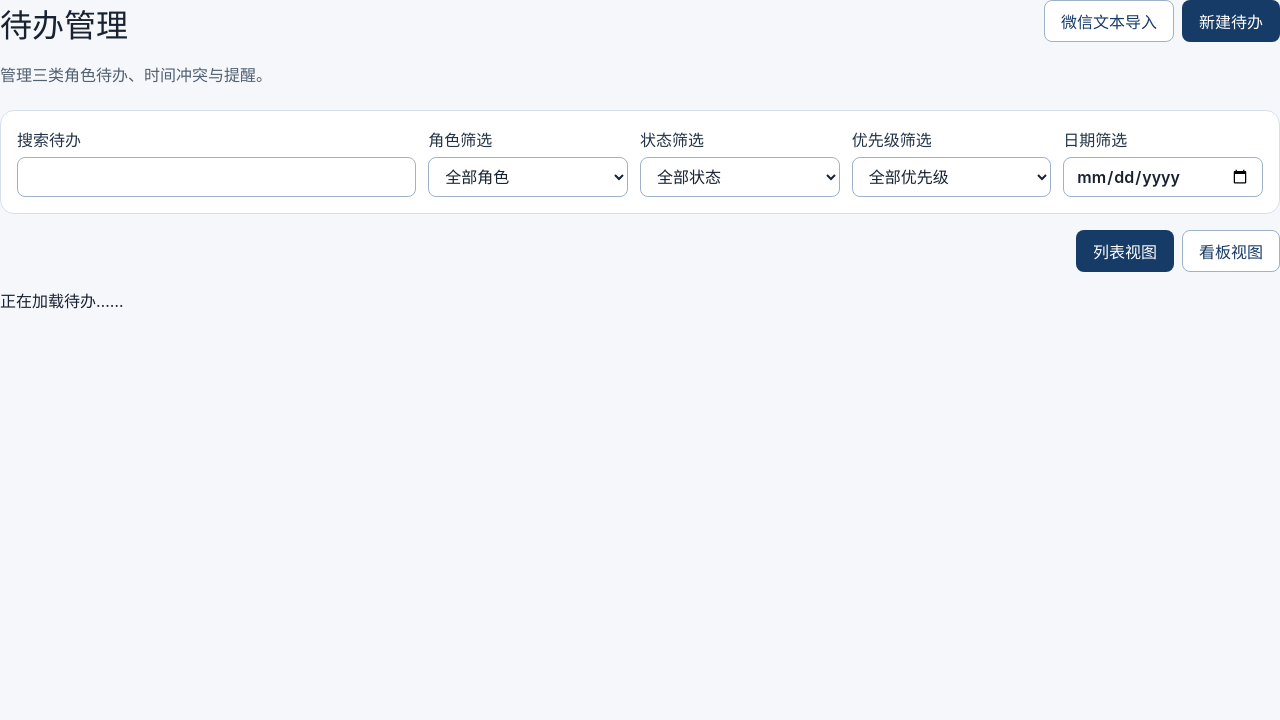
Test case: TodoPage › uses a fresh repository snapshot when saving before queries finish
Click the button "新建待办" at (1231, 21), box [1182,0,1279,42]
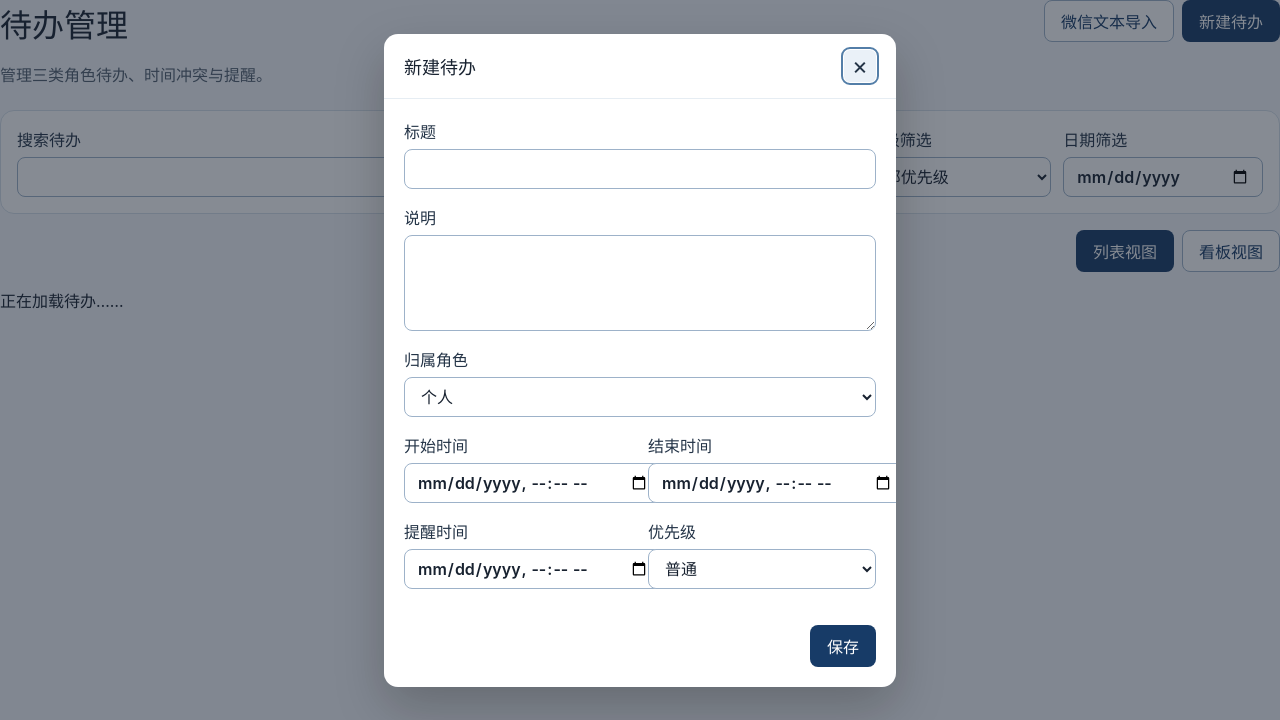
Type "快速提交" into the field labelled "标题" at (640, 168), box [404,148,876,188]
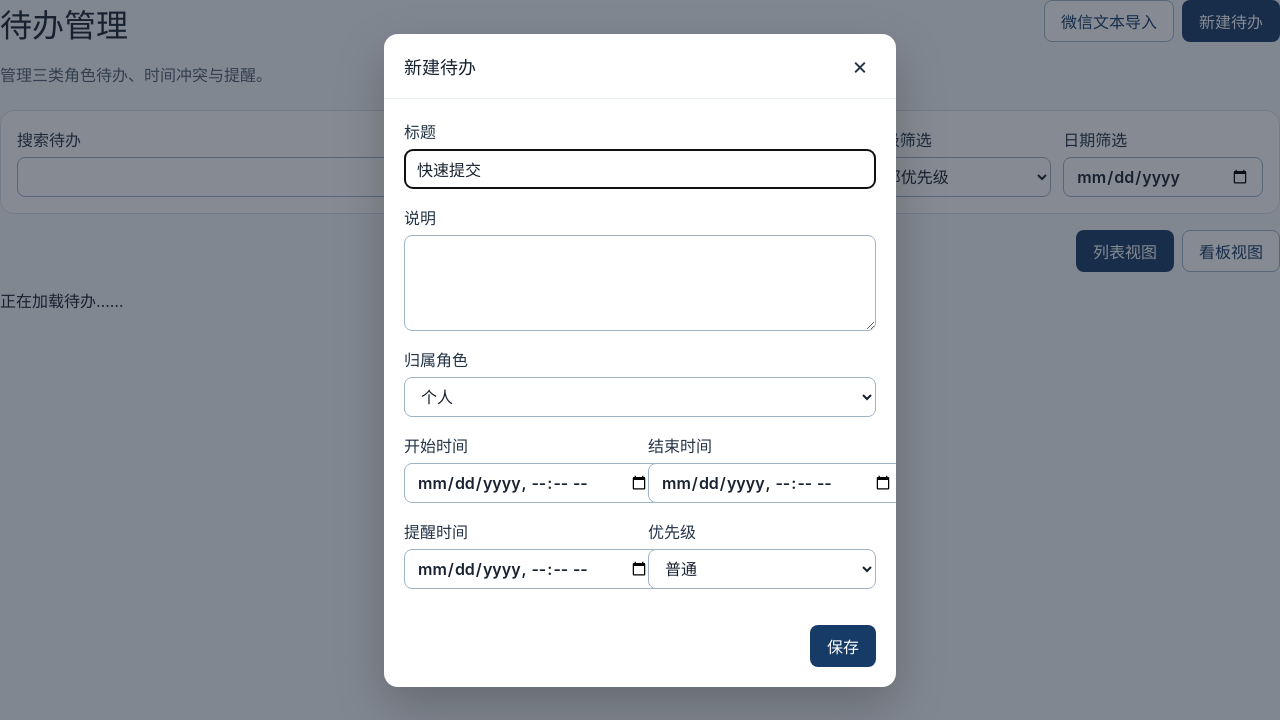
Type "2026-08-10T09:30" into the field labelled "开始时间" at (533, 482), box [404,462,662,502]
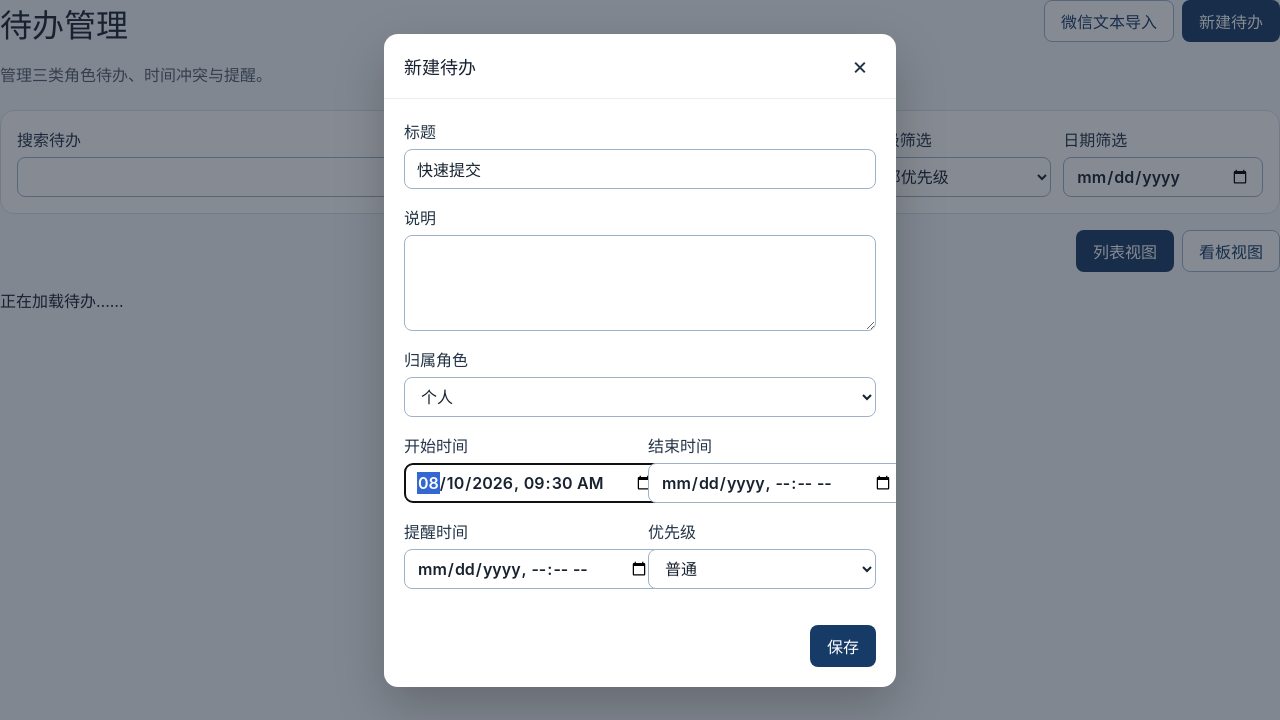
Type "2026-08-10T10:30" into the field labelled "结束时间" at (777, 482), box [648,462,906,502]
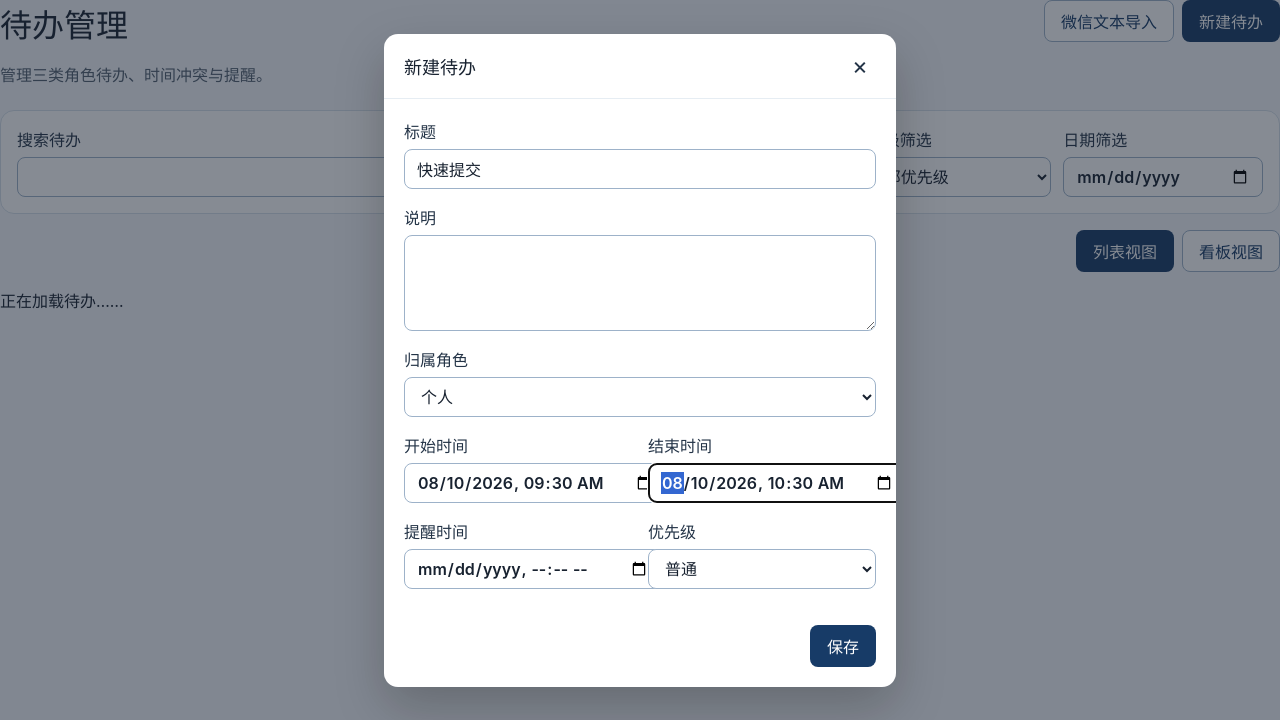
Click the button "保存" at (843, 646), box [810,624,876,666]
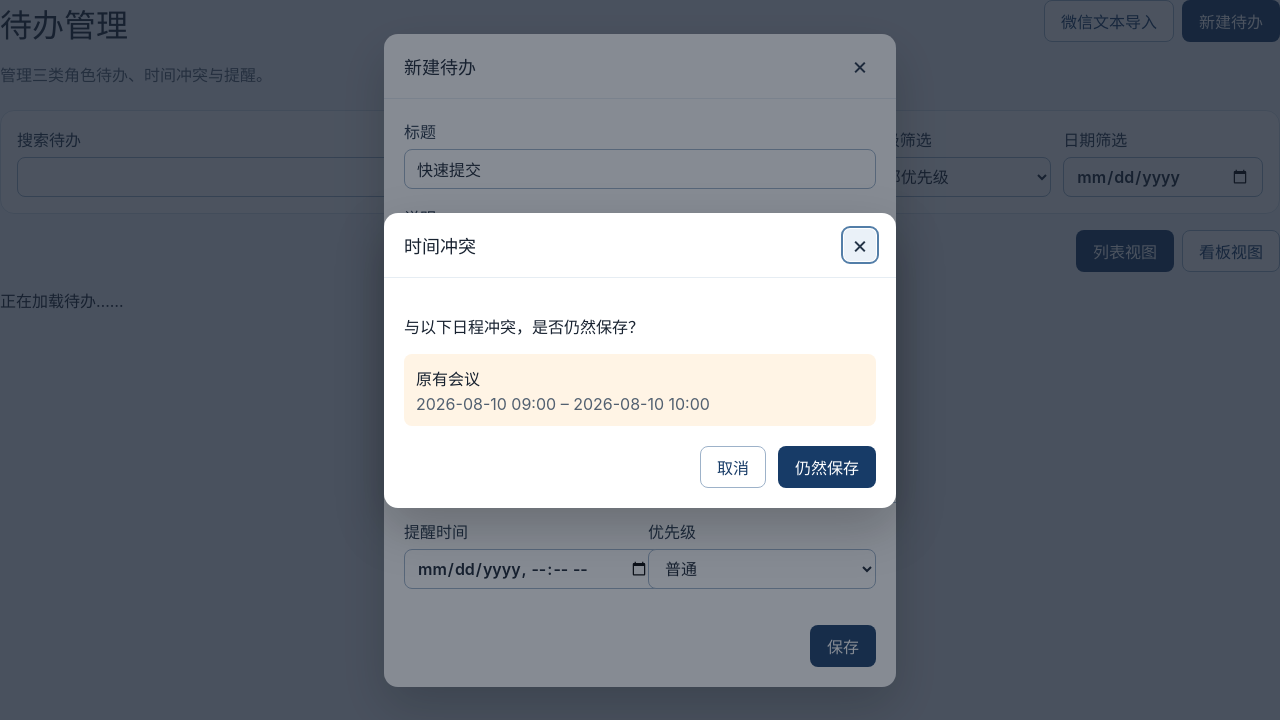
Now the dialog "时间冲突" is shown, box [384,212,896,508]
